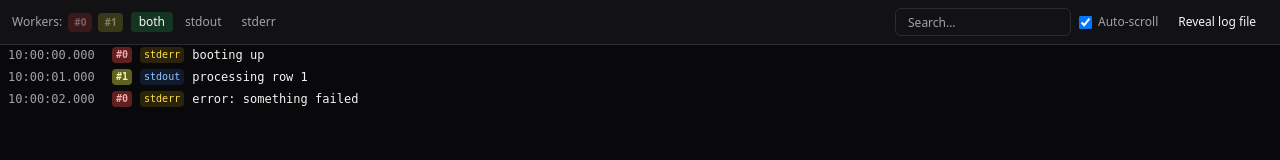
Test: AttemptLogsTab › stream filter narrows visible lines
Check: the text "booting up" is shown, box [192,47,264,63]
Click the "stdout" stream filter
Click the button "stdout". click: (203, 22)
box: [177,12,230,32]
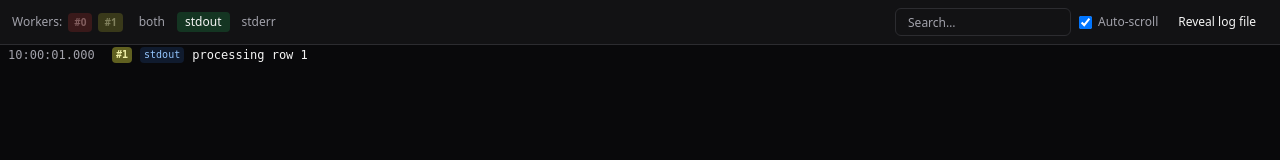
Check: the text "booting up" is gone
Check: the text "processing row 1" is shown, box [192,47,308,63]
Check: the text "error: something failed" is gone
